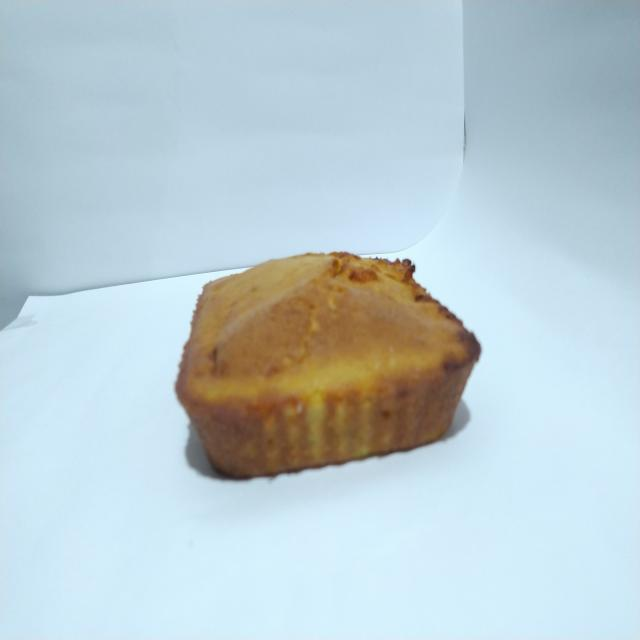Food: (165, 237, 486, 484)
